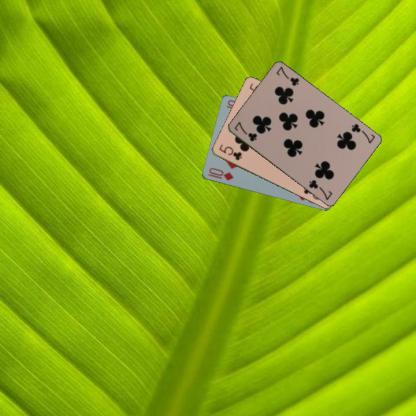10d: (205, 165, 235, 182)
5c: (216, 141, 243, 162)
7c: (347, 121, 376, 145), (232, 119, 258, 143)
